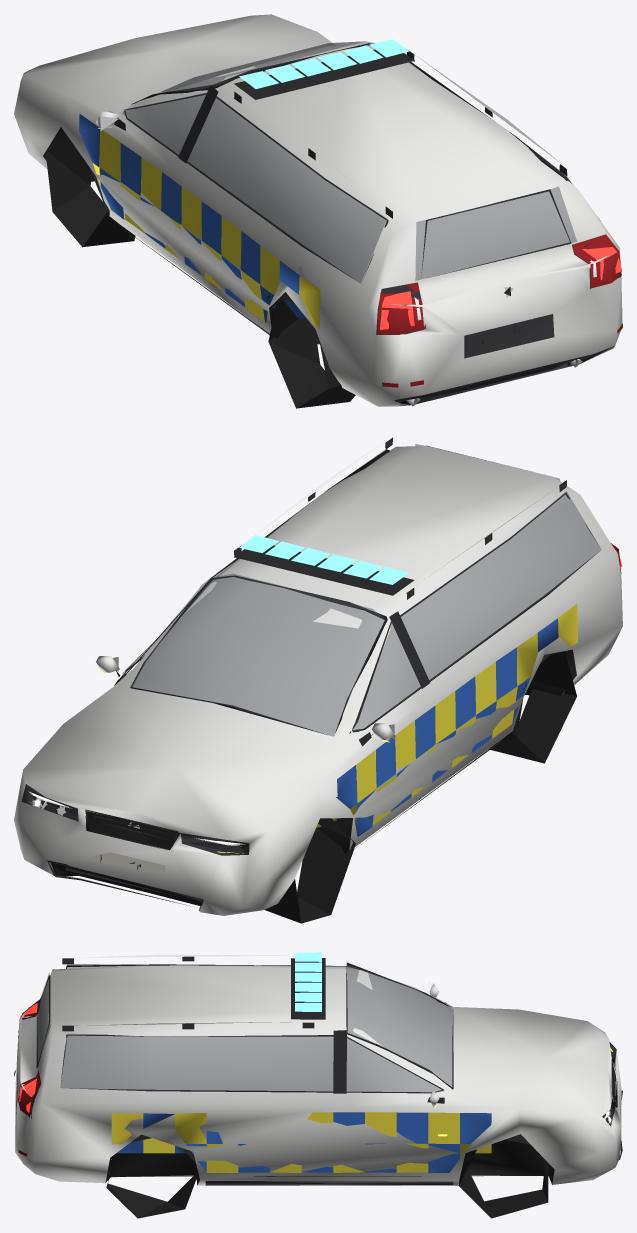
Rendered from civ_police_lod1.glb.
3 renders of one model, top to bottom at view 1: azimuth 30°, elevation 25°; view 2: azimuth 150°, elevation 25°; view 3: azimuth 270°, elevation 25°, orthographic. The views are drawn at different scales.
Visible parts, largest first — view 1: civ_police.001; view 2: civ_police.001; view 3: civ_police.001.
Boxes of the visible parts, x1,y1,x2,y2 form: civ_police.001: (14,14,622,408); civ_police.001: (14,437,622,923); civ_police.001: (14,952,622,1218).
Bounding box in the file's own units: 2.05 × 1.61 × 4.62.
